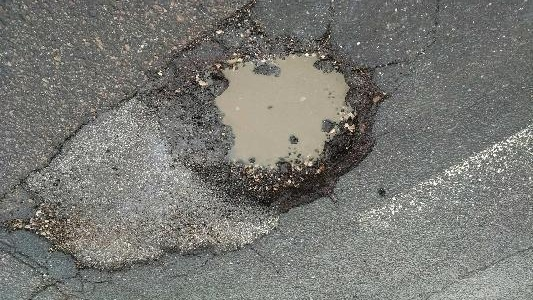pothole: (188, 34, 386, 217)
